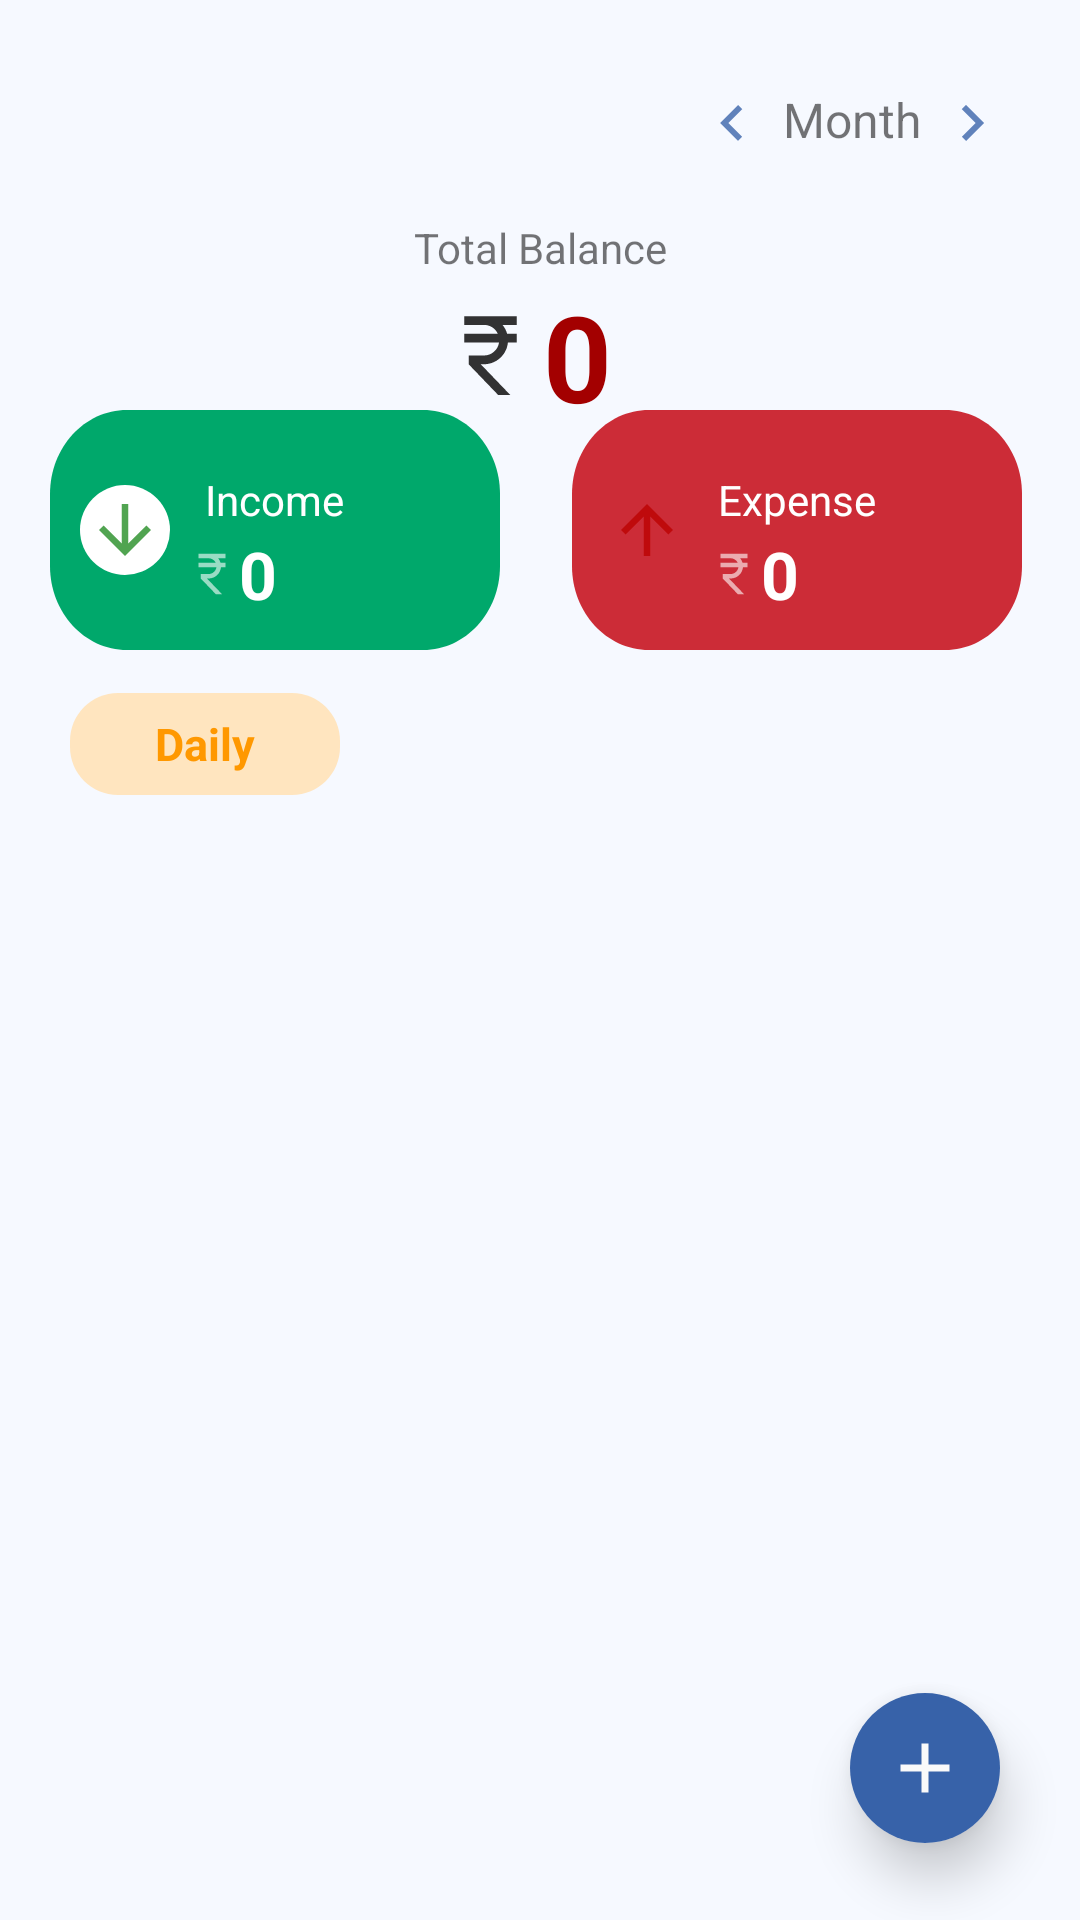

Screen size 1080 × 1920. Icon name, then its center in pixels as [x,y]:
add: [925,1768]
arrow back: [731,123]
arrow for: [973,123]
